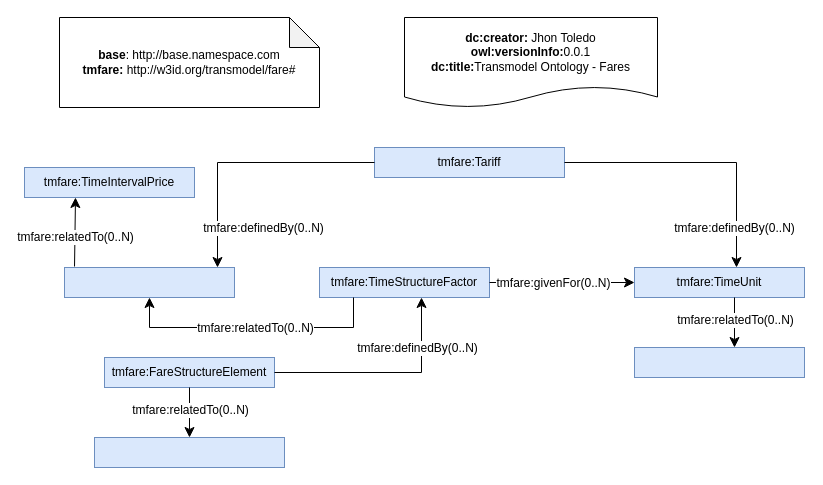
Some shapes in this 823 by 485 pixel diagram are drawn without their labels. Each missing label, with the centre of its shape:
tmfare:FareStructureElementPrice: [189,452]
tmfare:TimeInterval: [149,282]
tmfare:TimeUnitPrice: [719,362]
